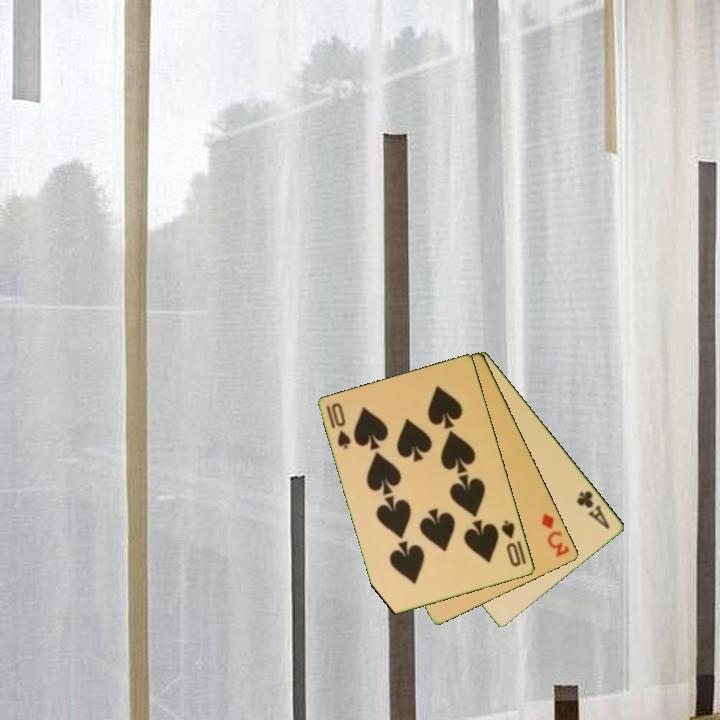10s: (323, 399, 354, 452), (498, 517, 524, 570)
3d: (537, 509, 573, 560)
Ac: (573, 487, 613, 532)
